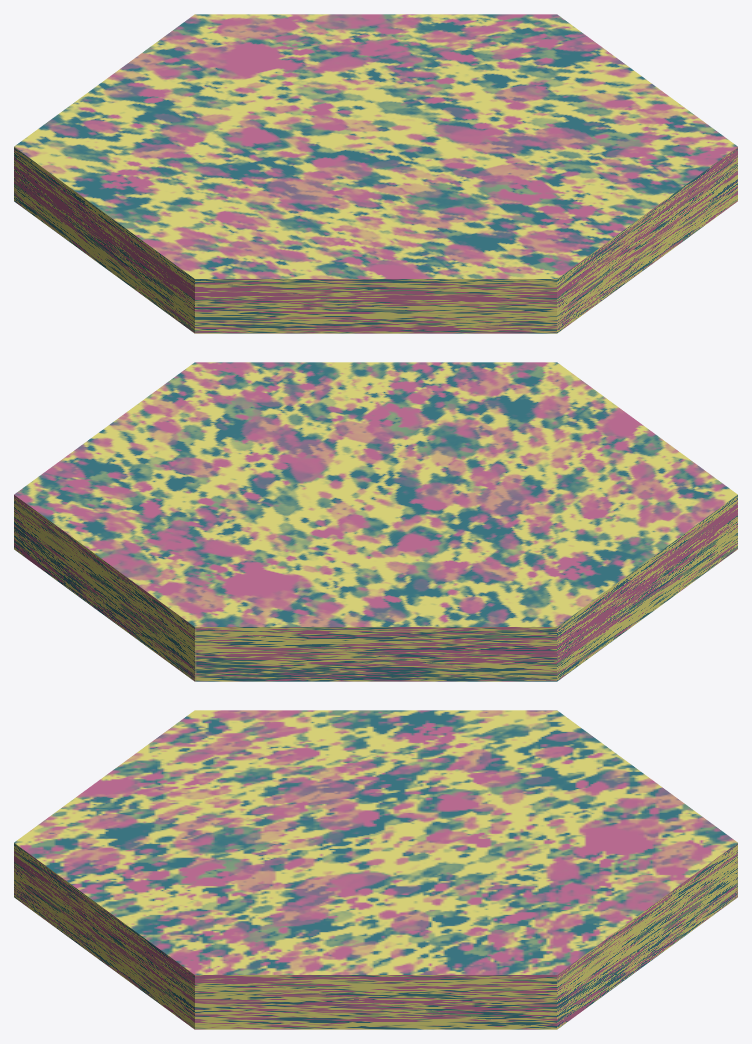
The model's file is hexagon-tile.gltf.
3 renders of one model, top to bottom at view 1: azimuth 30°, elevation 25°; view 2: azimuth 150°, elevation 25°; view 3: azimuth 270°, elevation 25°, orthographic.
Visible parts, largest first — view 1: Cylinder; view 2: Cylinder; view 3: Cylinder.
Part boxes in pixels (x1,y1,x2,y2): Cylinder: (14,14,737,333); Cylinder: (14,362,737,681); Cylinder: (14,710,737,1029).
Bounding box in the file's own units: 0.264 × 0.0254 × 0.3048.
1 material, 1 textured.
